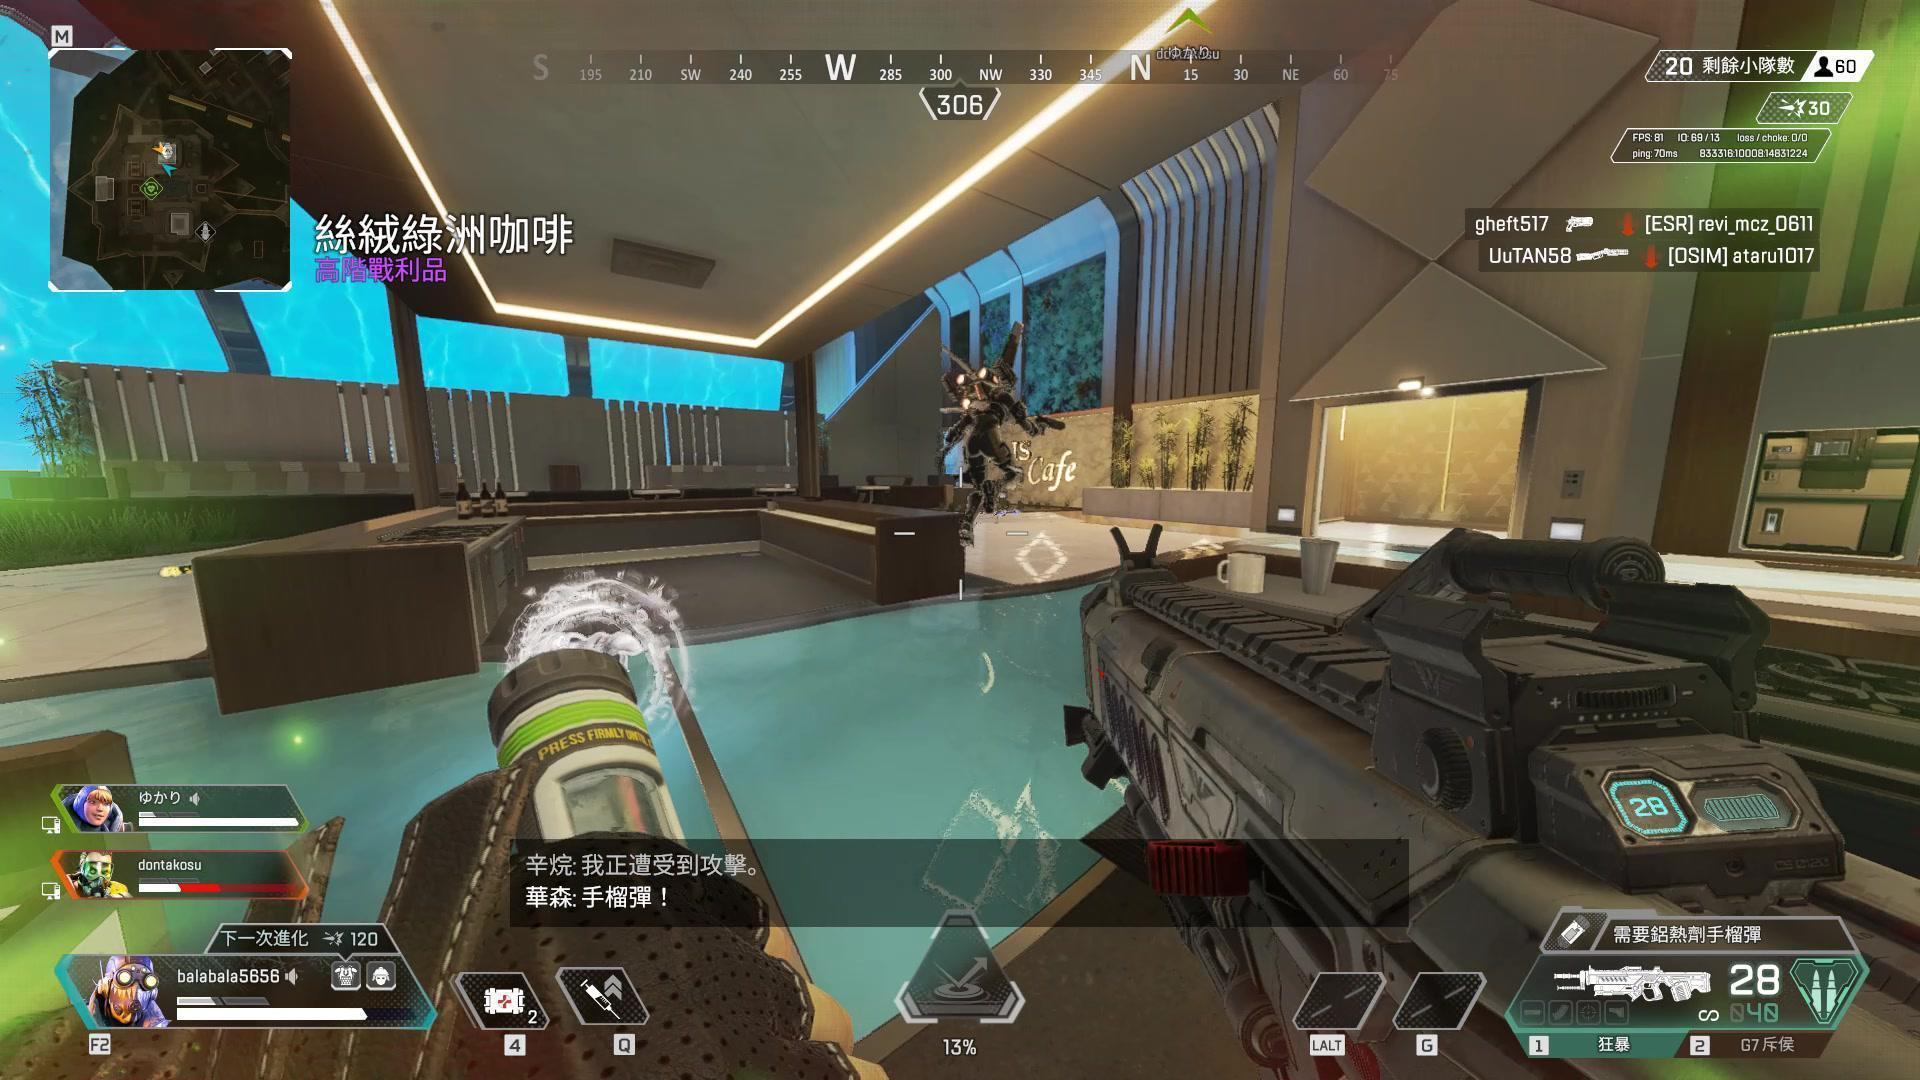avatar: (947, 358, 1022, 552)
